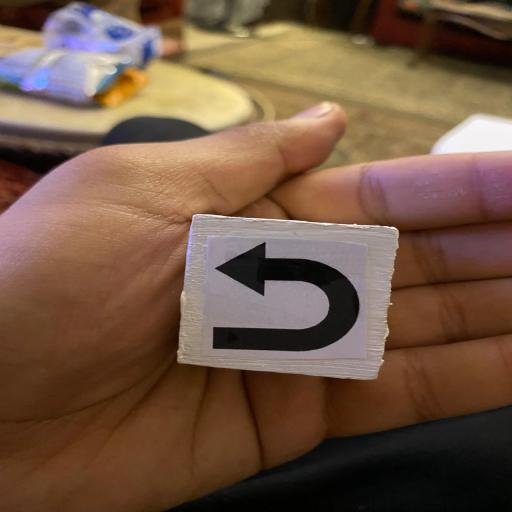Undo: (175, 212, 400, 379)
